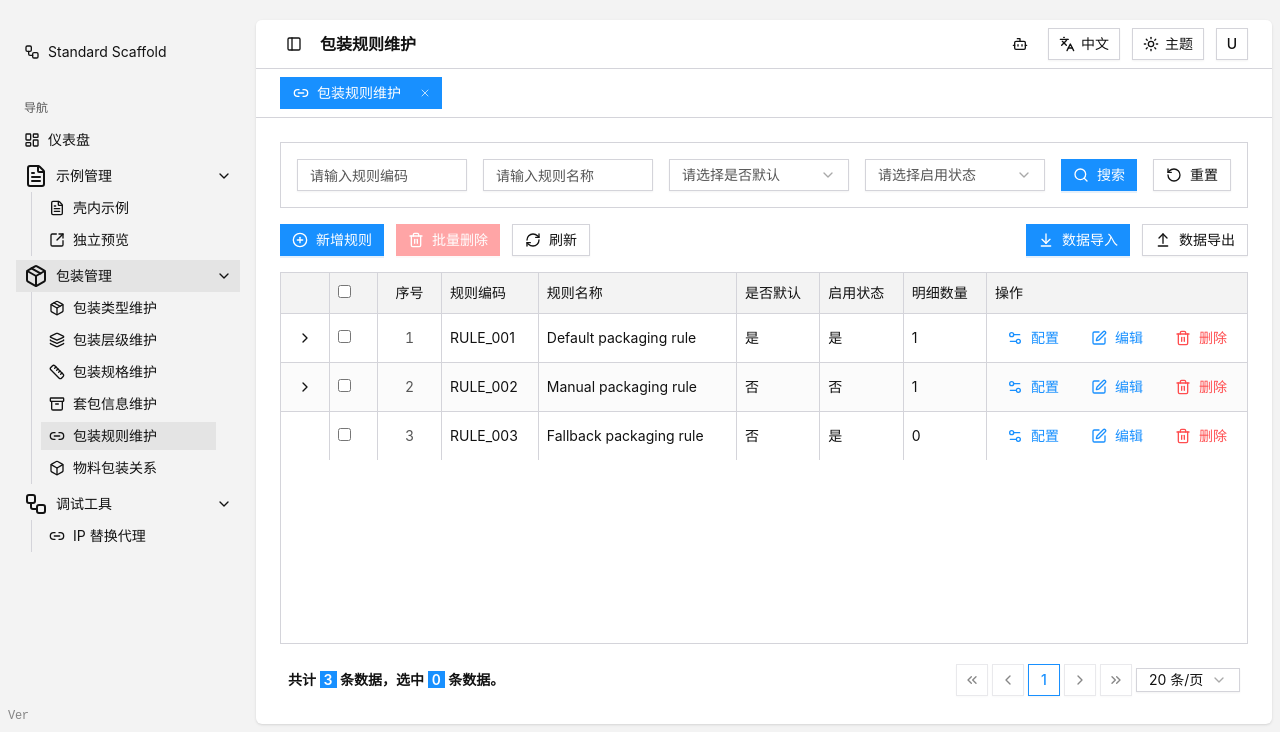
Test: PackagingRulePage › expands a packaging rule row to show detail records inline
The width and height of the screenshot is (1280, 732).
Expected: the text "Default packaging rule" is shown, [538,313,737,362]
Click the button named "展开 RULE_001" in the row of "RULE_001".
click(305, 338)  # box [289,322,321,354]
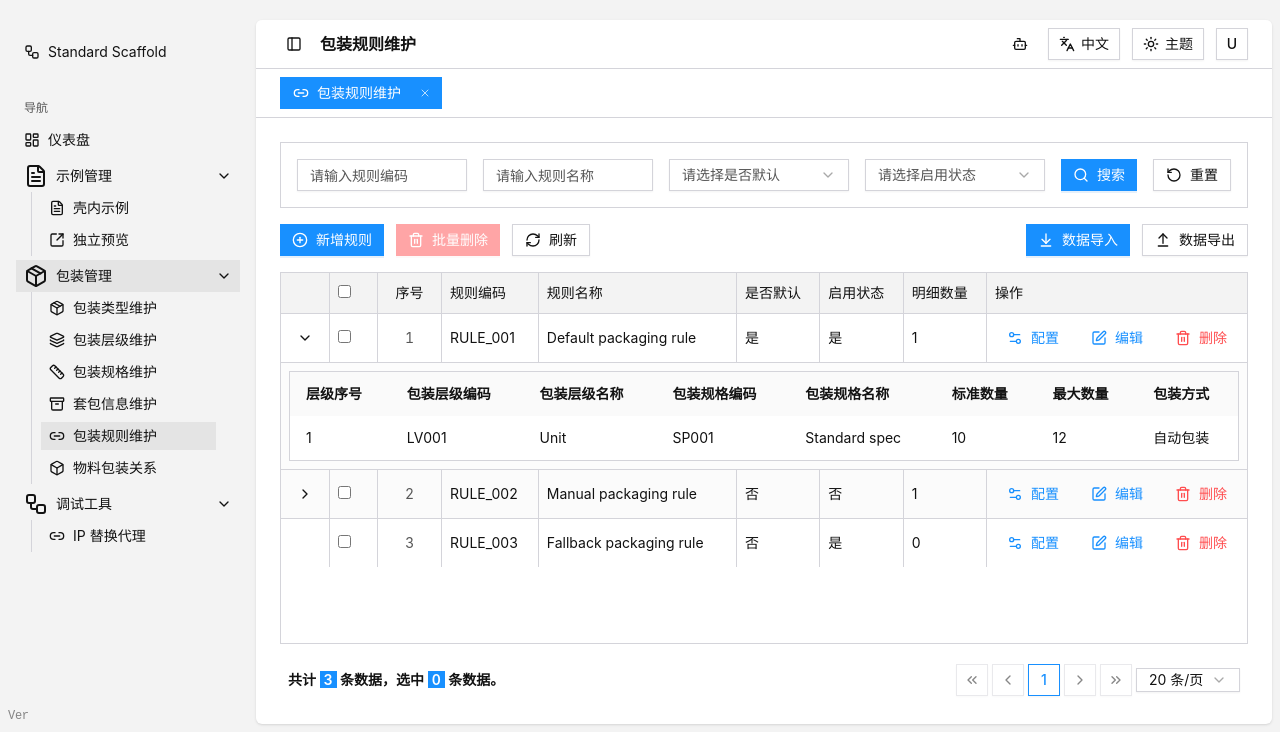
Expected: the text "1" next to "LV001" is shown, [306,428,312,446]
Expected: the text "LV001" is shown, [391,416,524,460]
Expected: the text "Unit" is shown, [524,416,656,460]
